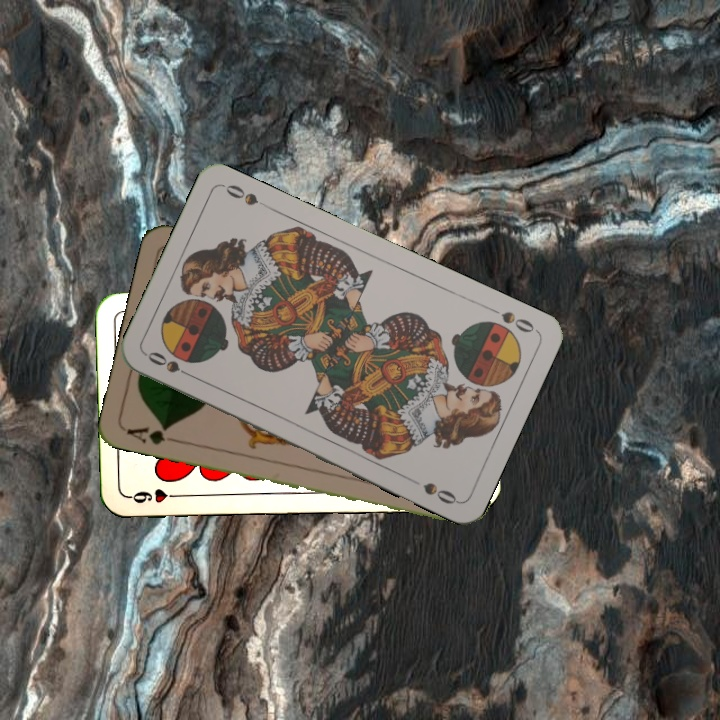GA: (122, 422, 181, 448)
H9: (125, 485, 184, 506)
SO: (483, 302, 539, 336), (143, 347, 198, 381)
